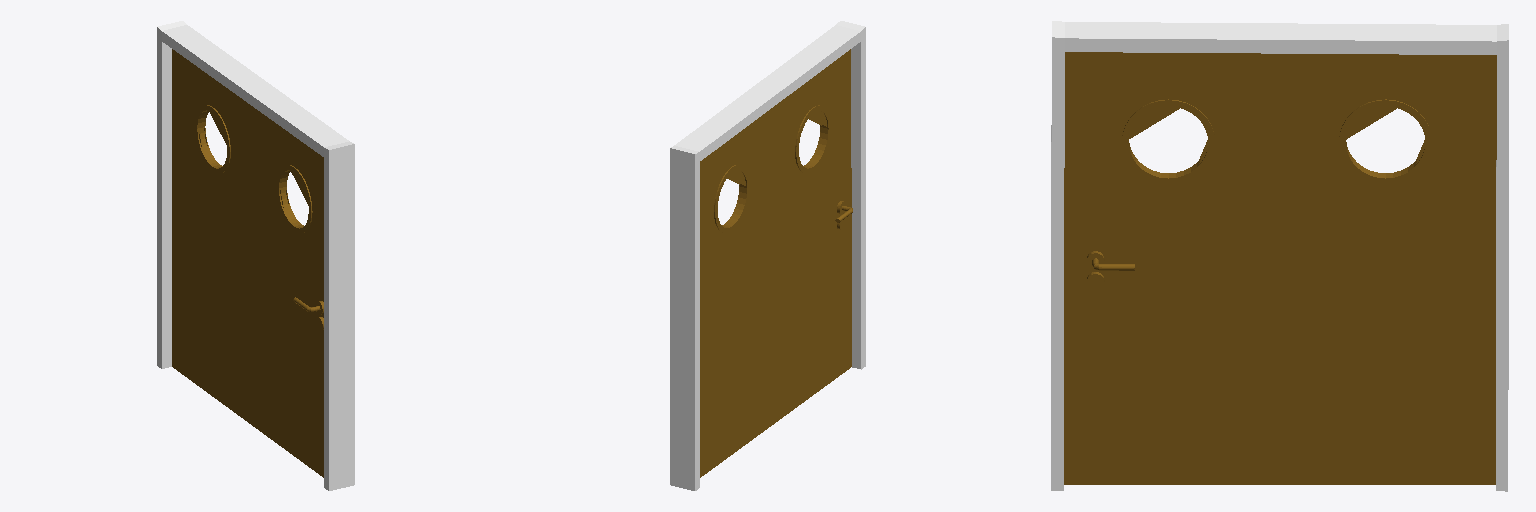
URDF robot description (door_h20):
<?xml version="0.0" ?>
<robot name="door_h20">

  <link name="base_link">
    <inertial>
      <origin rpy="0 0 0" xyz="0 0 0"/>
       <mass value=".0"/>
       <inertia ixx="0" ixy="0" ixz="0" iyy="0" iyz="0" izz="0"/>
    </inertial>
    <visual>
      <origin rpy="1.57 0 0" xyz="0 0 1.059"/>
      <geometry>
				<mesh filename="package://adream_simulation/models/cad_models/obj/door_h20.obj" scale="1 1 1"/>
      </geometry>
       <material name="white">
        <color rgba="1 1 1 1"/>
      </material>
    </visual>
  </link>

  <link name="door_h20_1">
    <inertial>
      <origin rpy="0 0 0" xyz="0 0 0"/>
       <mass value=".0"/>
       <inertia ixx="0" ixy="0" ixz="0" iyy="0" iyz="0" izz="0"/>
    </inertial>
    <visual>
      <origin rpy="1.57 0 0" xyz="0 0.459 1.02"/>
      <geometry>
        <mesh filename="package://adream_simulation/models/cad_models/obj/door_h20_1.obj" scale="1 1 1"/>
      </geometry>
       <material name="wood">
        <color rgba="0.572 0.427 0.152 1"/>
      </material>
    </visual>
  </link>

  <link name="door_h20_2">
    <inertial>
      <origin rpy="0 0 0" xyz="0 0 0"/>
       <mass value=".0"/>
       <inertia ixx="0" ixy="0" ixz="0" iyy="0" iyz="0" izz="0"/>
    </inertial>
    <visual>
      <origin rpy="1.57 0 0" xyz="0 -0.459 1.02"/>
      <geometry>
        <mesh filename="package://adream_simulation/models/cad_models/obj/door_h20_2.obj" scale="1 1 1"/>
      </geometry>
       <material name="wood">
        <color rgba="0.572 0.427 0.152 1"/>
      </material>
    </visual>
  </link>

  <joint name="base_to_door_1" type="revolute">
    <parent link="base_link"/>
    <child link="door_h20_1"/>
    <axis xyz="0 0 -1"/>
    <limit effort="1000.0" lower="0.0" upper="1.57" velocity="0.5"/>
    <origin rpy="0 0 0" xyz="0 -0.918 0"/>
  </joint>

  <joint name="base_to_door_2" type="revolute">
    <parent link="base_link"/>
    <child link="door_h20_2"/>
    <axis xyz="0 0 1"/>
    <limit effort="1000.0" lower="0.0" upper="1.57" velocity="0.5"/>
    <origin rpy="0 0 0" xyz="0 0.918 0"/>
  </joint>

</robot>

--- Facts derived from the render (not from the file) ---
Views: 3 orthographic renders of the robot side by side, from view 1: azimuth 30°, elevation 25°; view 2: azimuth 150°, elevation 25°; view 3: azimuth 270°, elevation 25°.
Robot: door_h20 — 3 links, 2 joints (2 revolute); root link base_link; default pose: all joints at 0.
Visible links, largest first — view 1: door_h20_2, door_h20_1, base_link; view 2: door_h20_1, door_h20_2, base_link; view 3: door_h20_1, door_h20_2, base_link.
Link boxes in pixels (bbox=[...]): door_h20_2: bbox=[172, 49, 252, 425]; door_h20_1: bbox=[253, 107, 323, 477]; base_link: bbox=[157, 21, 354, 490]; door_h20_1: bbox=[771, 49, 852, 425]; door_h20_2: bbox=[700, 109, 770, 477]; base_link: bbox=[670, 21, 865, 490]; door_h20_1: bbox=[1064, 52, 1279, 484]; door_h20_2: bbox=[1280, 54, 1496, 484]; base_link: bbox=[1051, 21, 1508, 491].
Size in the robot's own frame: 0.2264 by 1.94 by 2.12 metres.
3 mesh visuals loaded from 3 distinct referenced files (3 OBJ).